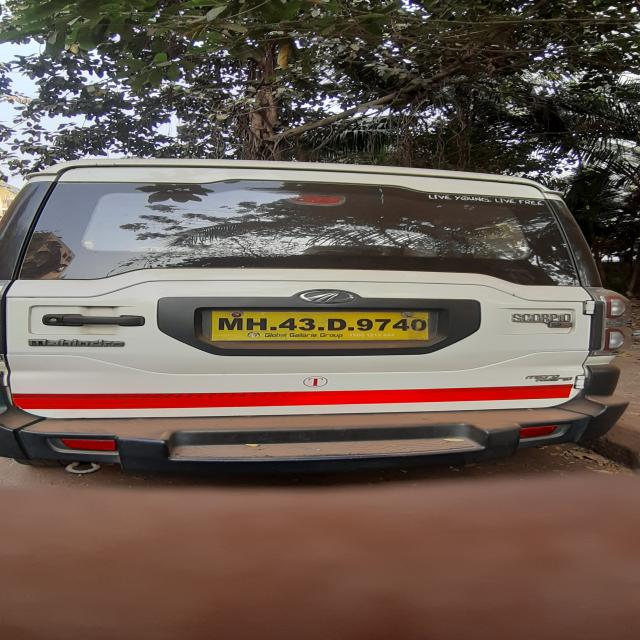Number-Plate: (204, 309, 431, 339)
